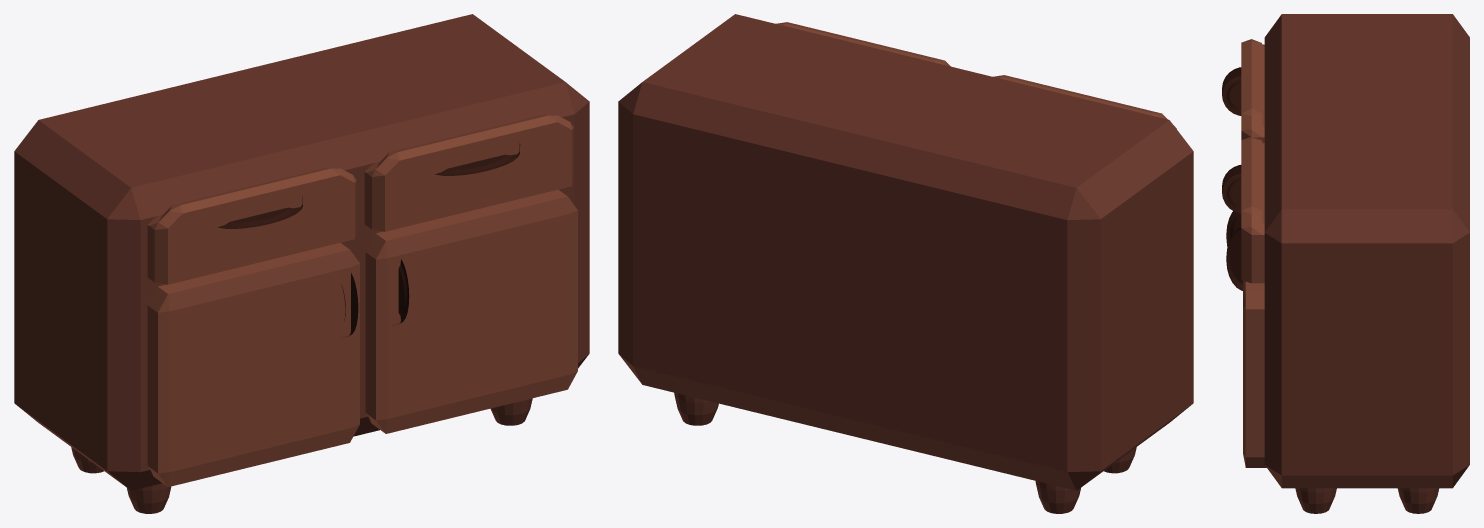
The model's file is lipasto.fbx.
The picture shows the model from 3 angles, left to right: view 1: azimuth 30°, elevation 25°; view 2: azimuth 150°, elevation 25°; view 3: azimuth 270°, elevation 25°; orthographic projection. The views are drawn at different scales.
Visible parts, largest first — view 1: Lipasto.001, ovi, ovi.002, laatikko.007, laatikko.004; view 2: Lipasto.001, laatikko.004, laatikko.007; view 3: Lipasto.001, ovi.002, laatikko.007, laatikko.004, ovi.
Boxes of the visible parts, <box> form: Lipasto.001: <box>14,14,589,513</box>; ovi: <box>147,242,359,487</box>; ovi.002: <box>365,189,577,433</box>; laatikko.007: <box>364,114,573,231</box>; laatikko.004: <box>147,167,356,284</box>; Lipasto.001: <box>618,14,1193,513</box>; laatikko.004: <box>993,75,1176,128</box>; laatikko.007: <box>776,22,950,66</box>; Lipasto.001: <box>1264,14,1469,513</box>; ovi.002: <box>1226,227,1266,467</box>; laatikko.007: <box>1222,136,1264,283</box>; laatikko.004: <box>1222,39,1264,142</box>; ovi: <box>1226,211,1241,246</box>.
Size of the model in its own units: 150 by 102 by 72.47.
